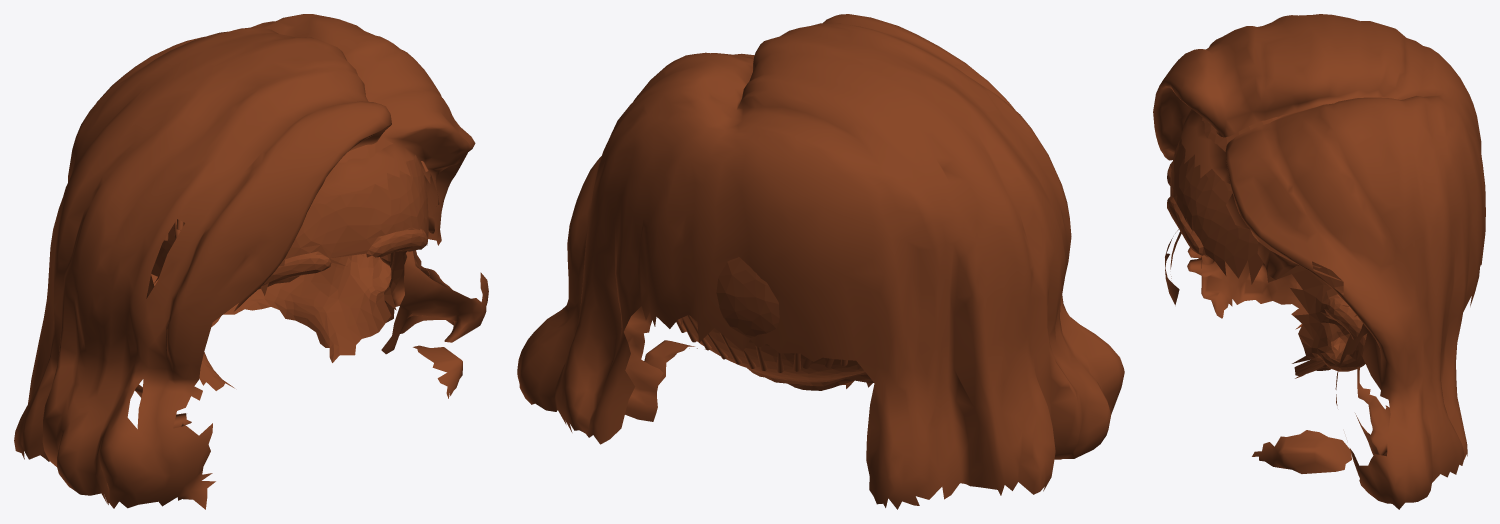
The model's file is long-wavy.glb.
3 renders of one model, left to right at view 1: azimuth 30°, elevation 25°; view 2: azimuth 150°, elevation 25°; view 3: azimuth 270°, elevation 25°, orthographic. The views are drawn at different scales.
Visible parts, largest first — view 1: Hair, HairScalp; view 2: Hair, HairScalp, HairPulledRootStrands; view 3: Hair, HairScalp.
Boxes of the visible parts, left/top/right/bottom form: Hair: left=14, top=14, right=488, bottom=509; HairScalp: left=146, top=134, right=428, bottom=390; Hair: left=517, top=14, right=1124, bottom=509; HairScalp: left=679, top=257, right=873, bottom=390; HairPulledRootStrands: left=676, top=315, right=847, bottom=372; Hair: left=1153, top=14, right=1485, bottom=509; HairScalp: left=1167, top=117, right=1367, bottom=378.
Size of the model in its own units: 0.7414 by 0.5202 by 0.4405.
